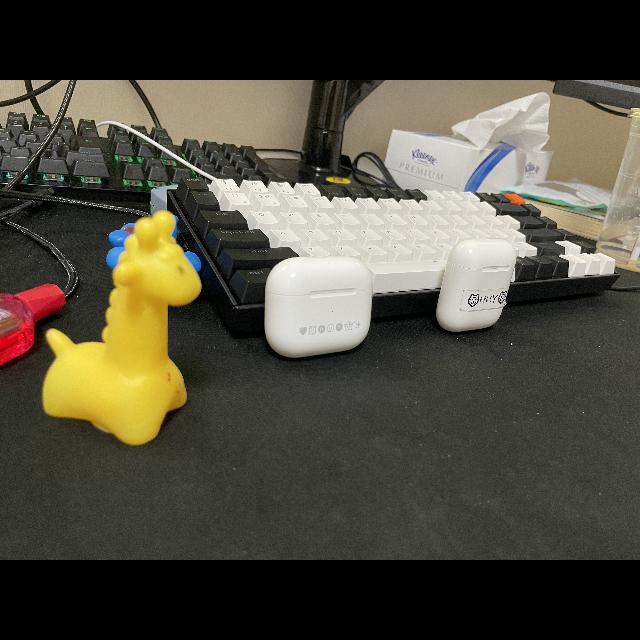airpod2: (436, 236, 516, 336)
airpod3: (263, 254, 377, 360)
